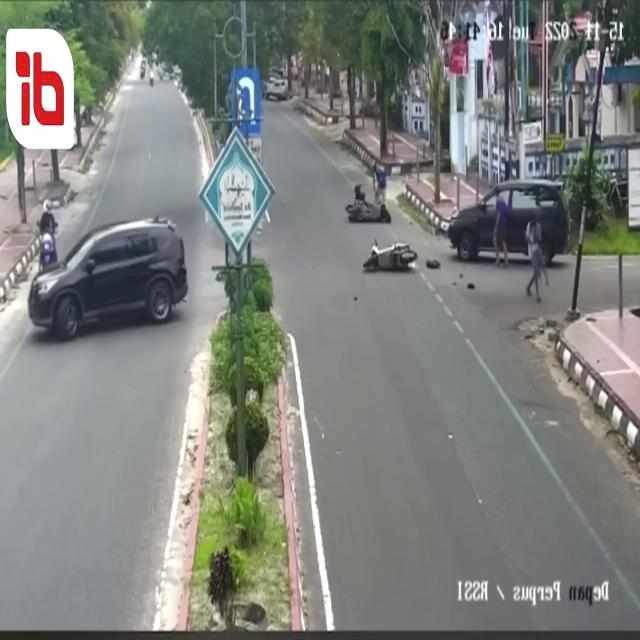accident: (344, 158, 442, 276)
non-accident: (26, 198, 190, 344)
